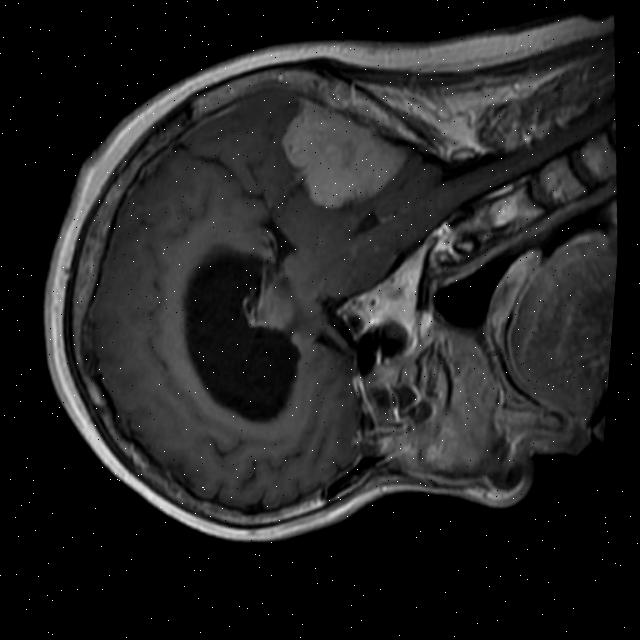Meningioma: (269, 77, 420, 218)
